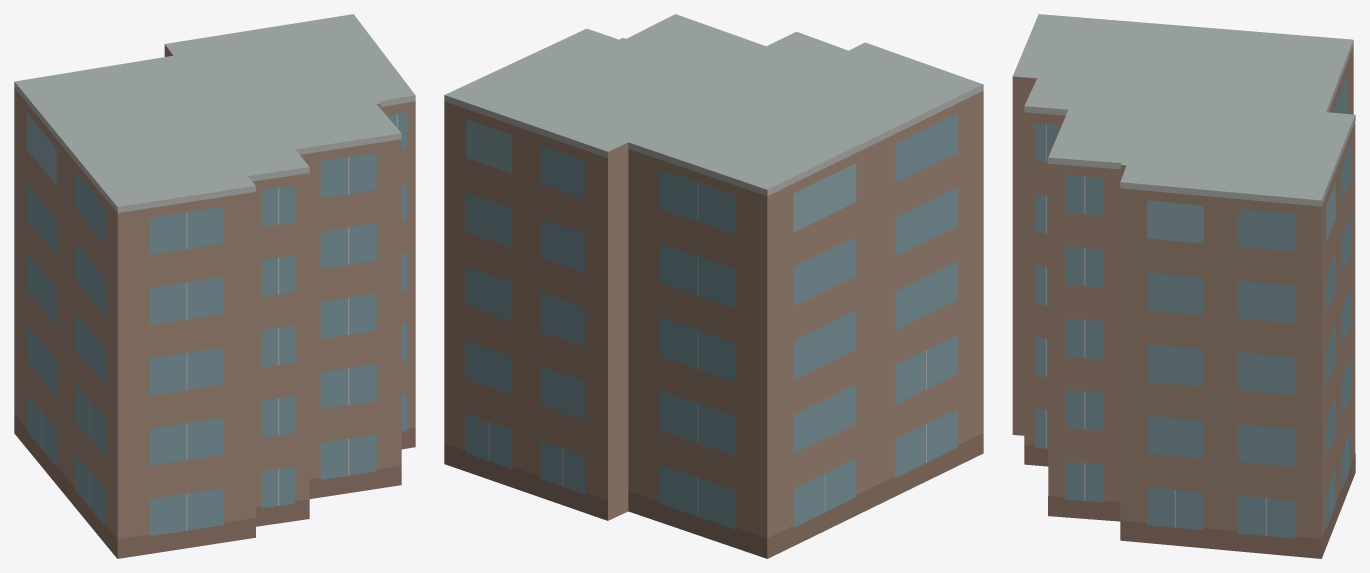
Rendered from survey-upis-33044749.glb.
The picture shows the model from 3 angles, left to right: view 1: azimuth 30°, elevation 25°; view 2: azimuth 150°, elevation 25°; view 3: azimuth 270°, elevation 25°; orthographic projection. The views are drawn at different scales.
Visible parts, largest first — view 1: survey-upis-33044749.tmp; view 2: survey-upis-33044749.tmp; view 3: survey-upis-33044749.tmp.
Boxes of the visible parts, x1,y1,x2,y2 form: survey-upis-33044749.tmp: (14, 14, 415, 558); survey-upis-33044749.tmp: (444, 14, 983, 558); survey-upis-33044749.tmp: (1012, 14, 1355, 558).
Bounding box in the file's own units: 15.85 × 14.2 × 12.32.
